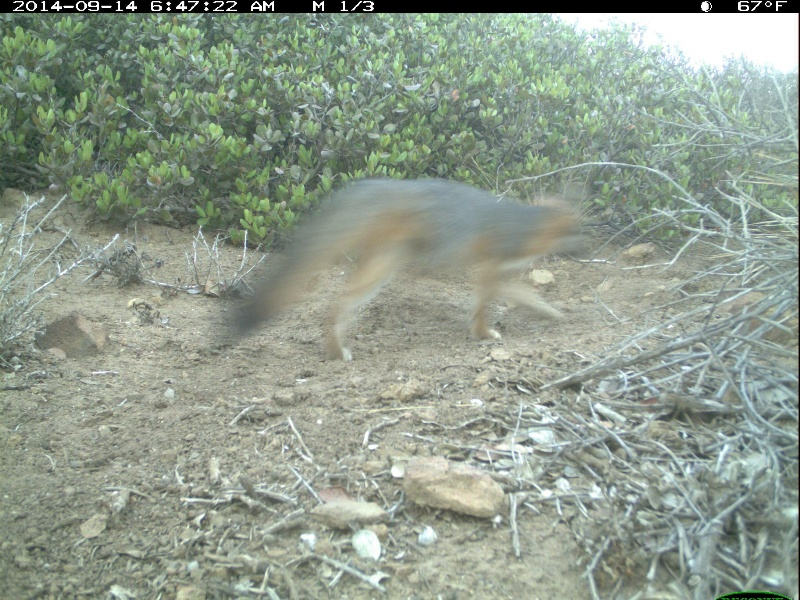coyote: (225, 183, 605, 362)
